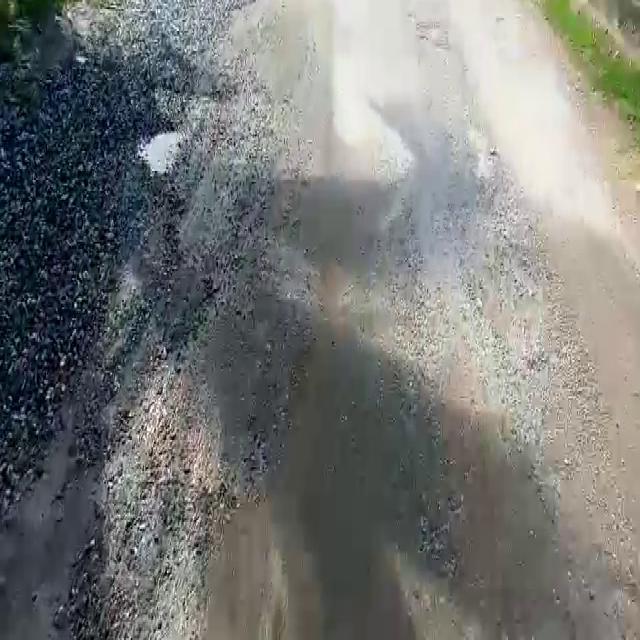pothole: (136, 117, 181, 180)
